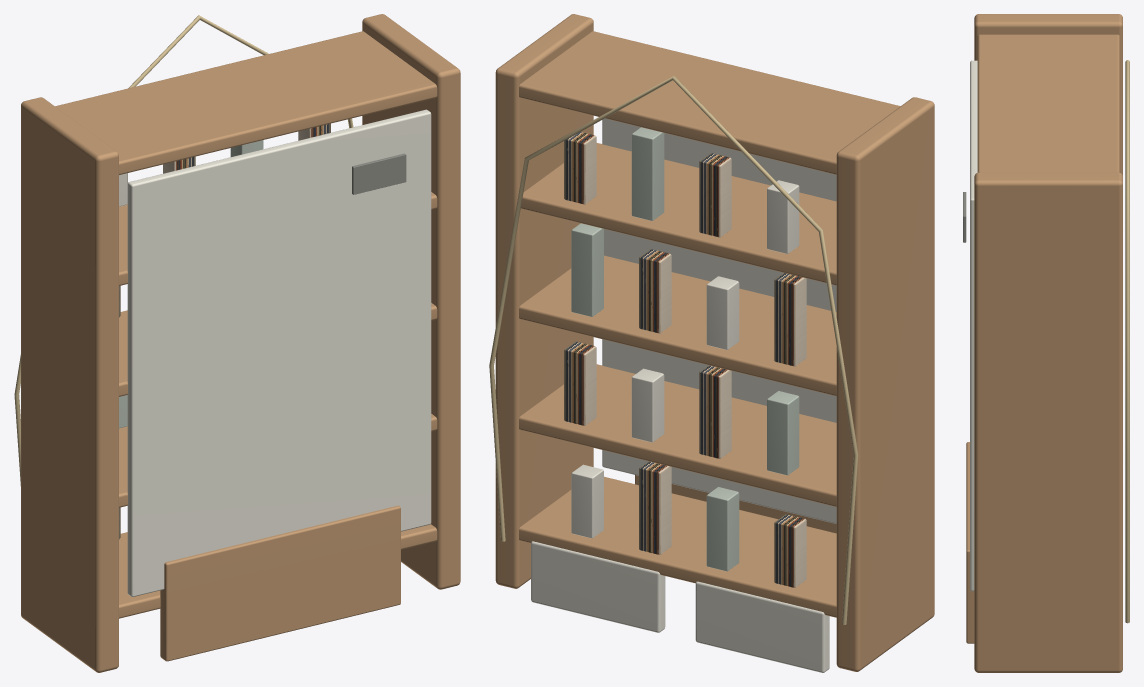
The model's file is room_l2_img2_observation_bookshelf.glb.
The picture shows the model from 3 angles, left to right: view 1: azimuth 30°, elevation 25°; view 2: azimuth 150°, elevation 25°; view 3: azimuth 270°, elevation 25°; orthographic projection. The views are drawn at different scales.
Parts seen in each view (by area): view 1: bookshelf_quiet_warm_back_panel, bookshelf_open_left_side, bookshelf_open_real_shelf_4, bookshelf_rear_low_hidden_backer, bookshelf_open_right_side, bookshelf_open_real_shelf_0, bookshelf_tiny_rear_access_plate, bookshelf_gallery_oval_front_outline, bookshelf_open_real_shelf_2, bookshelf_open_real_shelf_1, bookshelf_open_real_shelf_3; view 2: bookshelf_open_left_side, bookshelf_open_right_side, bookshelf_open_real_shelf_4, bookshelf_quiet_warm_back_panel, bookshelf_open_real_shelf_1, bookshelf_open_real_shelf_2, bookshelf_open_real_shelf_3, bookshelf_open_real_shelf_0, bookshelf_lower_left_door, bookshelf_lower_right_door, bookshelf_gallery_oval_front_outline, bookshelf_front_book_3_2 (+16 smaller); view 3: bookshelf_open_right_side, bookshelf_open_real_shelf_4, bookshelf_open_left_side, bookshelf_quiet_warm_back_panel, bookshelf_gallery_oval_front_outline, bookshelf_rear_low_hidden_backer.
Boxes of the visible parts, bbox=[...] form: bookshelf_quiet_warm_back_panel: bbox=[127, 109, 431, 596]; bookshelf_open_left_side: bbox=[21, 97, 118, 672]; bookshelf_open_real_shelf_4: bbox=[55, 31, 437, 174]; bookshelf_rear_low_hidden_backer: bbox=[160, 505, 400, 661]; bookshelf_open_right_side: bbox=[362, 14, 460, 589]; bookshelf_open_real_shelf_0: bbox=[119, 524, 437, 618]; bookshelf_tiny_rear_access_plate: bbox=[352, 153, 406, 194]; bookshelf_gallery_oval_front_outline: bbox=[14, 15, 353, 485]; bookshelf_open_real_shelf_2: bbox=[119, 303, 437, 396]; bookshelf_open_real_shelf_1: bbox=[119, 414, 437, 507]; bookshelf_open_real_shelf_3: bbox=[119, 192, 437, 285]; bookshelf_open_left_side: bbox=[836, 97, 934, 671]; bookshelf_open_right_side: bbox=[495, 14, 593, 588]; bookshelf_open_real_shelf_4: bbox=[519, 31, 900, 174]; bookshelf_quiet_warm_back_panel: bbox=[602, 118, 836, 523]; bookshelf_open_real_shelf_1: bbox=[519, 364, 836, 506]; bookshelf_open_real_shelf_2: bbox=[519, 255, 836, 396]; bookshelf_open_real_shelf_3: bbox=[520, 143, 836, 285]; bookshelf_open_real_shelf_0: bbox=[519, 476, 836, 617]; bookshelf_lower_left_door: bbox=[695, 581, 829, 672]; bookshelf_lower_right_door: bbox=[531, 541, 665, 632]; bookshelf_gallery_oval_front_outline: bbox=[489, 76, 858, 624]; bookshelf_front_book_3_2: bbox=[631, 127, 664, 220]; bookshelf_open_right_side: bbox=[974, 172, 1122, 672]; bookshelf_open_real_shelf_4: bbox=[977, 34, 1119, 172]; bookshelf_open_left_side: bbox=[974, 14, 1122, 175]; bookshelf_quiet_warm_back_panel: bbox=[970, 60, 977, 591]; bookshelf_gallery_oval_front_outline: bbox=[1125, 60, 1129, 623]; bookshelf_rear_low_hidden_backer: bbox=[966, 442, 974, 643].
Bounding box in the file's own units: 1.25 × 1.84 × 0.516.
7 materials, 1 textured.
